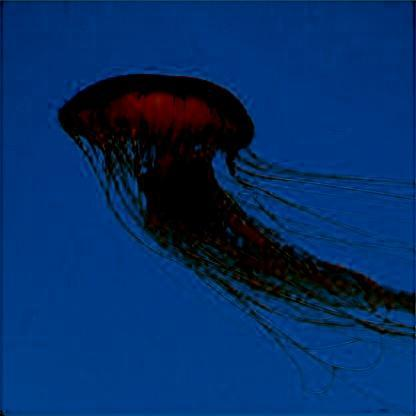Moon: (60, 74, 412, 328)
